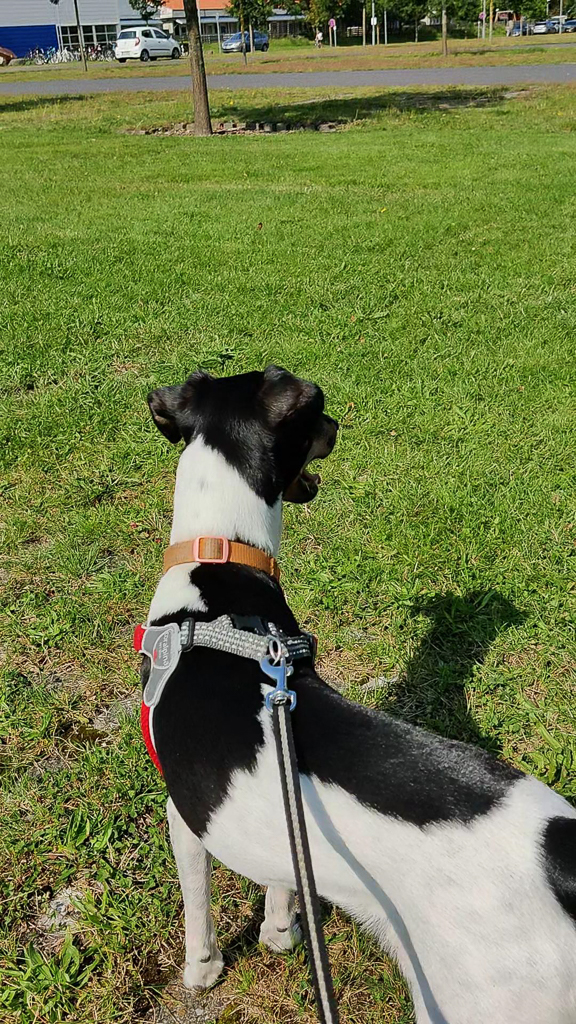Dog: (123, 340, 576, 1024)
